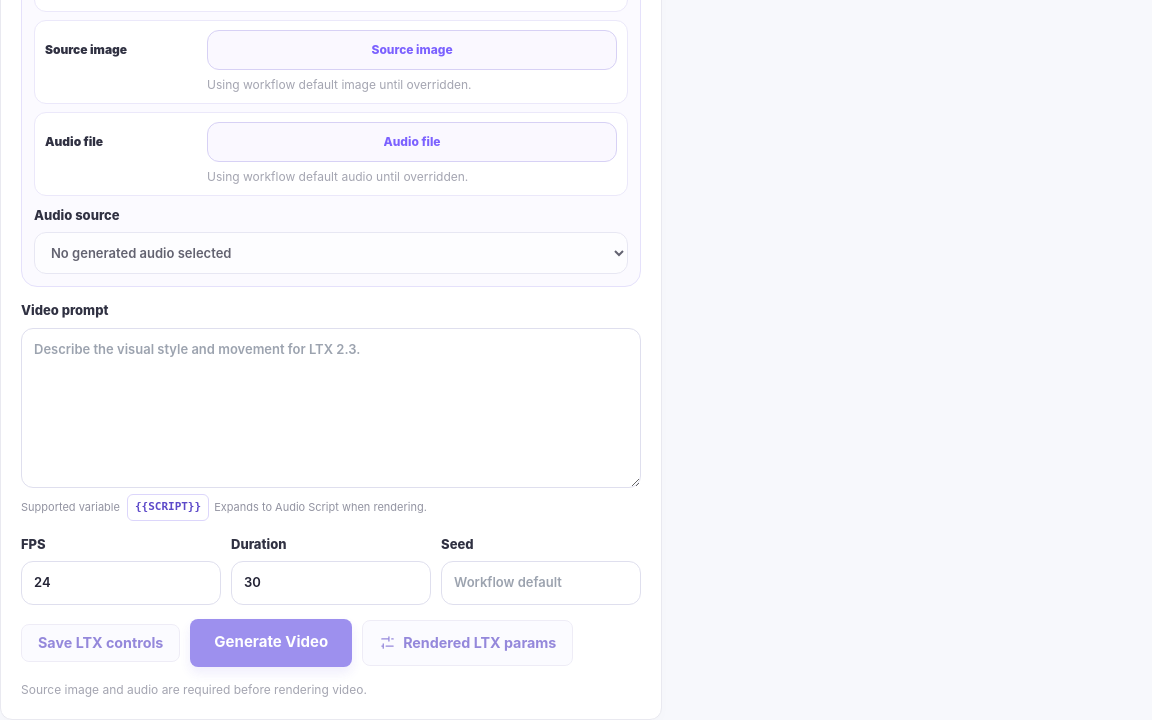
Test case: CreateVideoPanel › inserts the SCRIPT variable into the video prompt
The width and height of the screenshot is (1152, 720).
(page scrolled)
Type "Elena says: " into the text box labelled "Video prompt" at {"x": 331, "y": 408}, box [21,328,641,488]
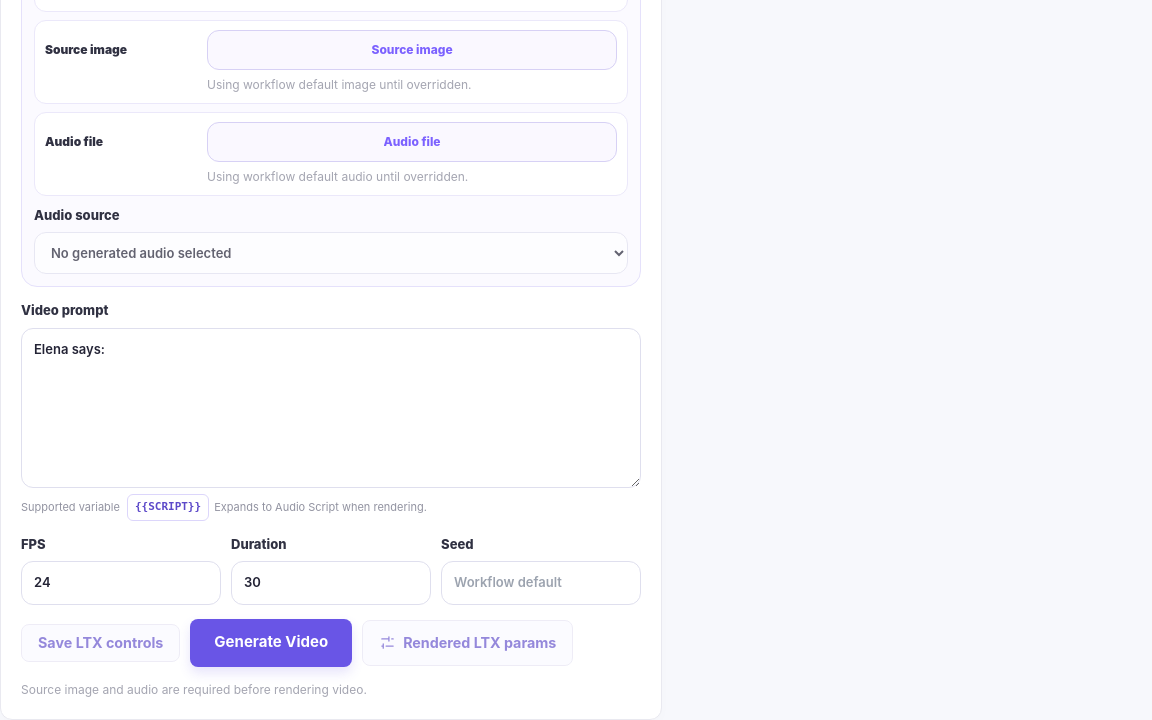
Click the button "{{SCRIPT}}" at {"x": 168, "y": 507}, box [127,494,209,520]
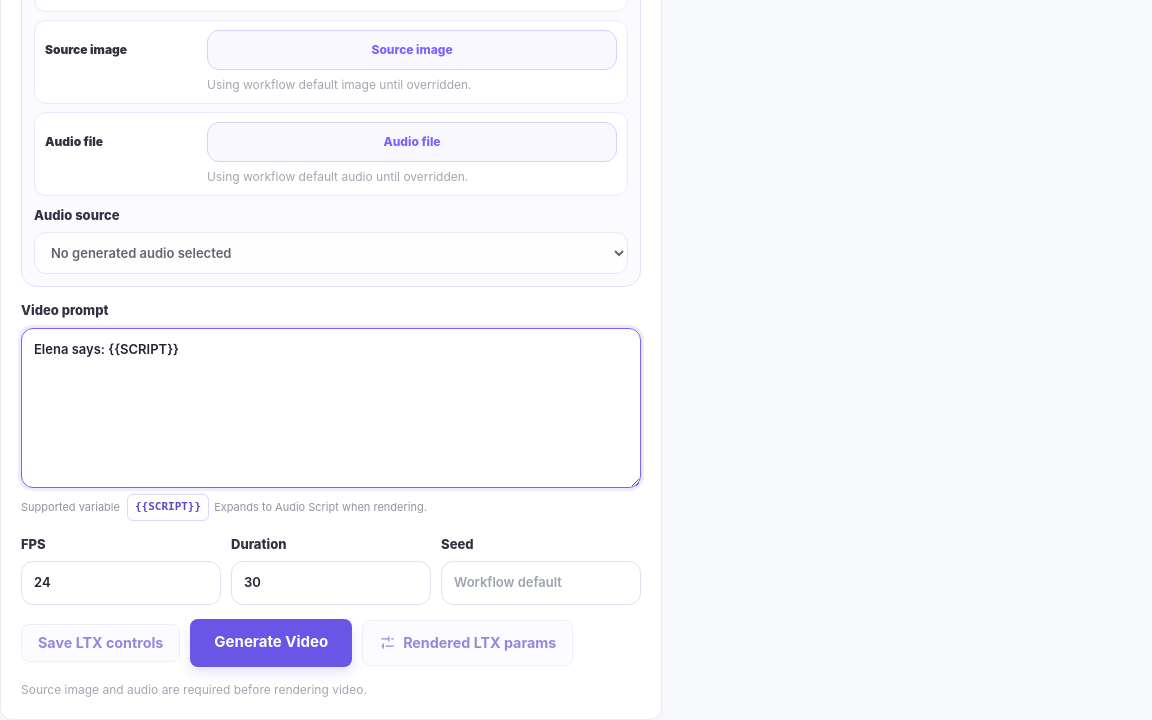
Check: the text box labelled "Video prompt" holds "Elena says: {{SCRIPT}}", box [21,328,641,488]
